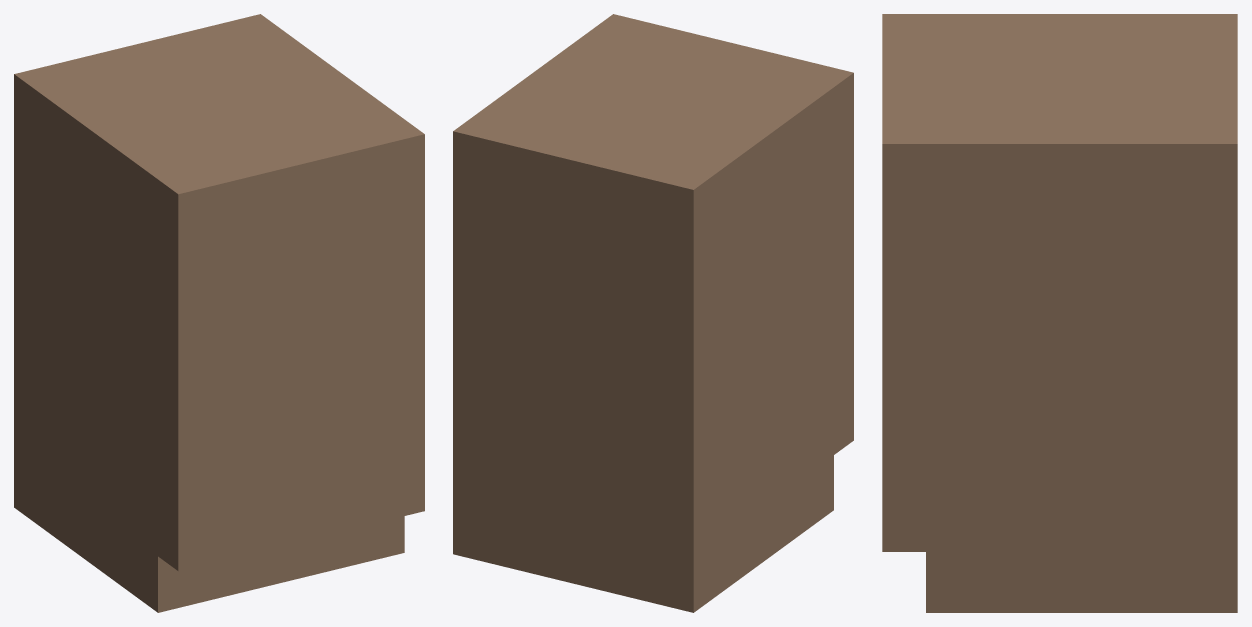
The model's file is base_cabinet_02.obj.
3 views of the same model, side by side, from view 1: azimuth 30°, elevation 25°; view 2: azimuth 150°, elevation 25°; view 3: azimuth 270°, elevation 25° (orthographic). The views are drawn at different scales.
Visible parts, largest first — view 1: base_cabinet_02; view 2: base_cabinet_02; view 3: base_cabinet_02.
Part boxes in pixels (x1,y1,x2,y2): base_cabinet_02: (14,14,424,612); base_cabinet_02: (453,14,853,612); base_cabinet_02: (882,14,1237,612).
Bounding box in the file's own units: 537 × 902 × 619.
